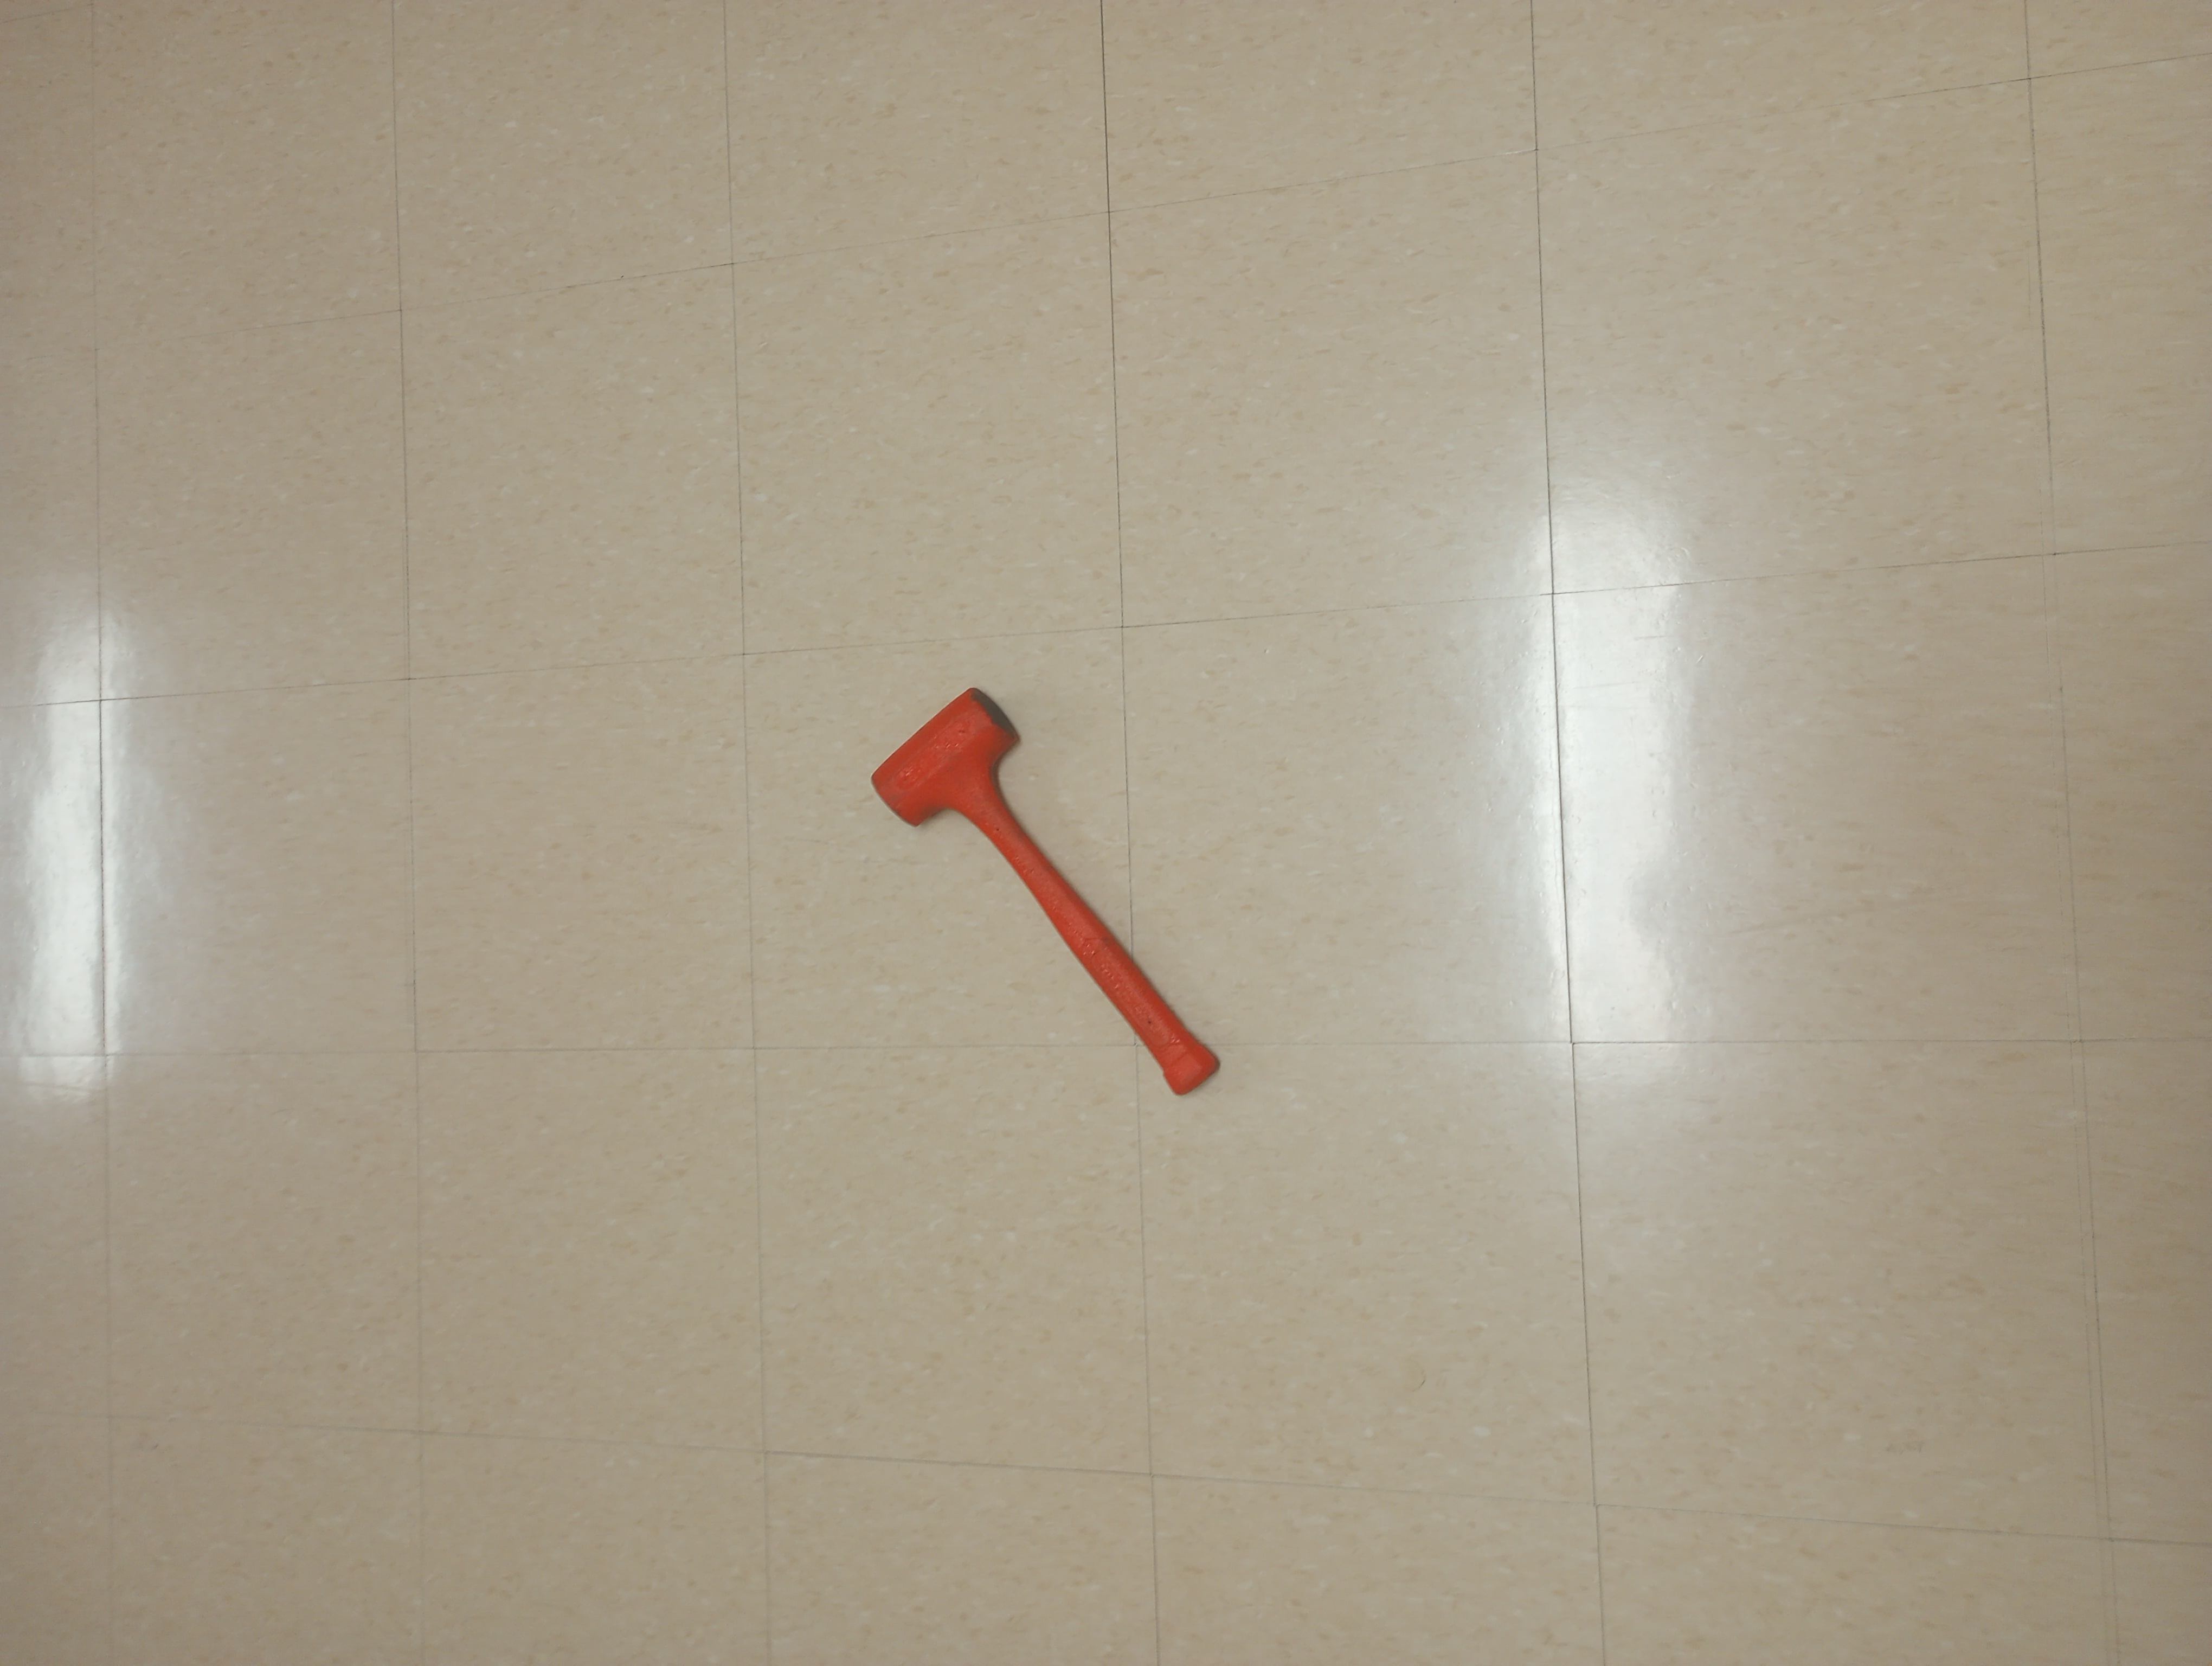bottle: (864, 674, 1228, 1111)
